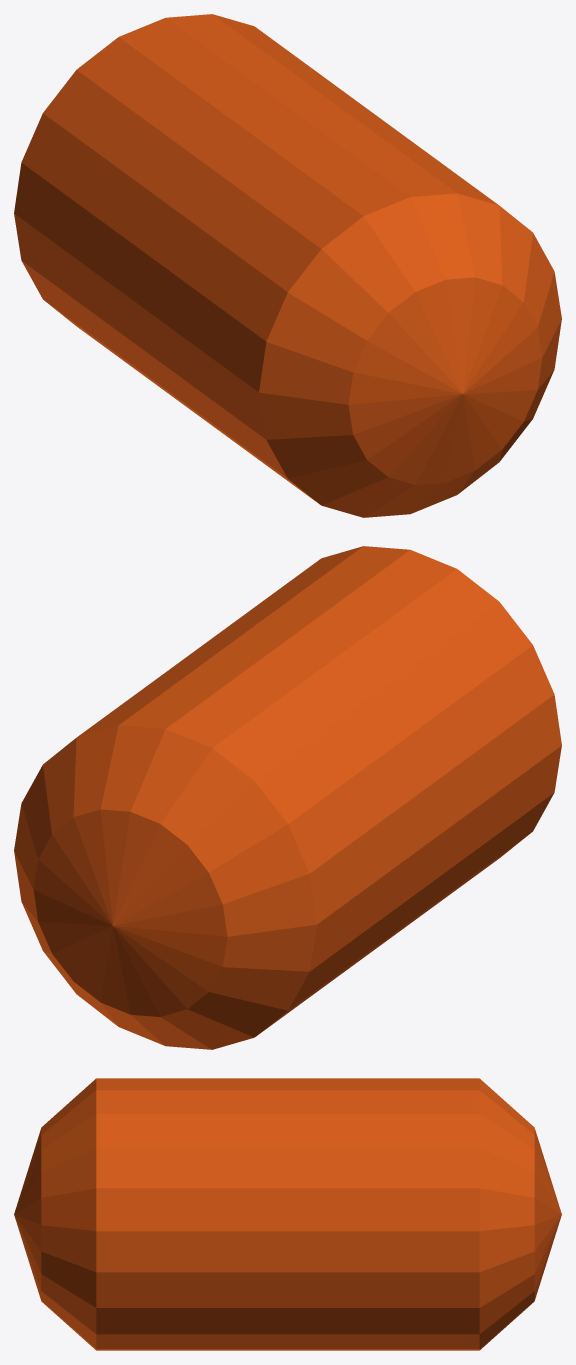
File: kit_tank.obj
3 renders of one model, top to bottom at view 1: azimuth 30°, elevation 25°; view 2: azimuth 150°, elevation 25°; view 3: azimuth 270°, elevation 25°, orthographic. The views are drawn at different scales.
Visible parts, largest first — view 1: kit_tank; view 2: kit_tank; view 3: kit_tank.
Part boxes in pixels (x1,y1,x2,y2): kit_tank: (14, 14, 561, 517); kit_tank: (14, 546, 561, 1049); kit_tank: (14, 1078, 561, 1350).
Size of the model in its own units: 0.5 by 0.5 by 1.
